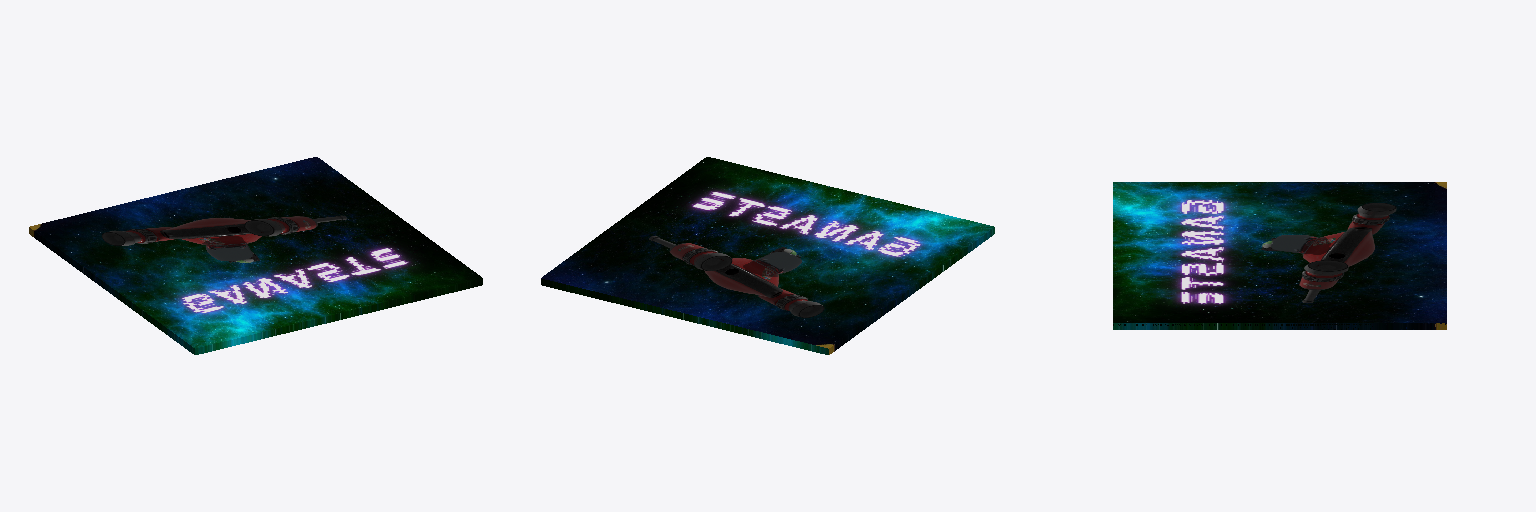
3 renders of one model, left to right at view 1: azimuth 30°, elevation 25°; view 2: azimuth 150°, elevation 25°; view 3: azimuth 270°, elevation 25°, orthographic.
Visible parts, largest first — view 1: Plane; view 2: Plane; view 3: Plane.
Part boxes in pixels (bbox=[...]): Plane: bbox=[29, 157, 482, 354]; Plane: bbox=[541, 157, 994, 354]; Plane: bbox=[1113, 182, 1446, 329].
Size of the model in its own units: 4 by 0.0914 by 4.
Materials: 1 (1 with a texture image).